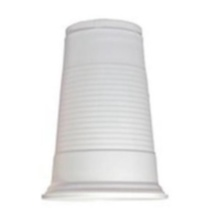glass: (34, 12, 178, 210)
